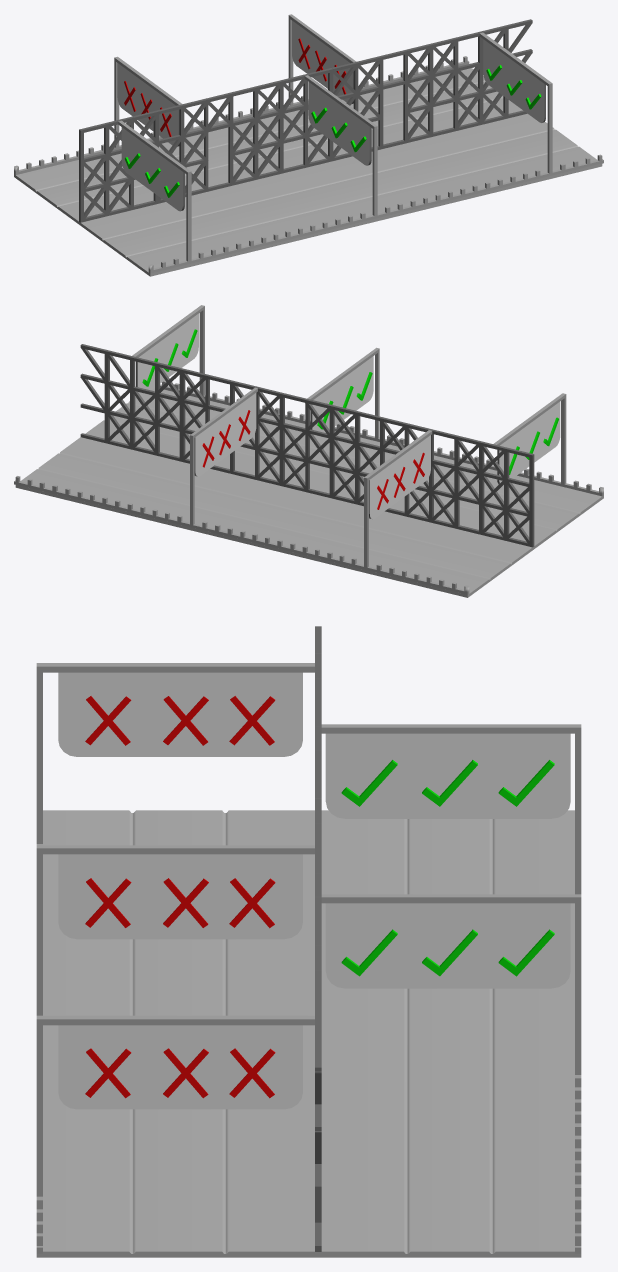
File: Six_Lane_Highway.fbx
3 renders of one model, top to bottom at view 1: azimuth 30°, elevation 25°; view 2: azimuth 150°, elevation 25°; view 3: azimuth 270°, elevation 25°, orthographic. The views are drawn at different scales.
Visible parts, largest first — view 1: Six_Lane_Highway; view 2: Six_Lane_Highway; view 3: Six_Lane_Highway.
Part boxes in pixels (x1=…): Six_Lane_Highway: x1=14, y1=14, x2=603, y2=276; Six_Lane_Highway: x1=14, y1=305, x2=603, y2=597; Six_Lane_Highway: x1=36, y1=626, x2=581, y2=1257.
Bounding box in the file's own units: 160 × 32 × 83.01.
